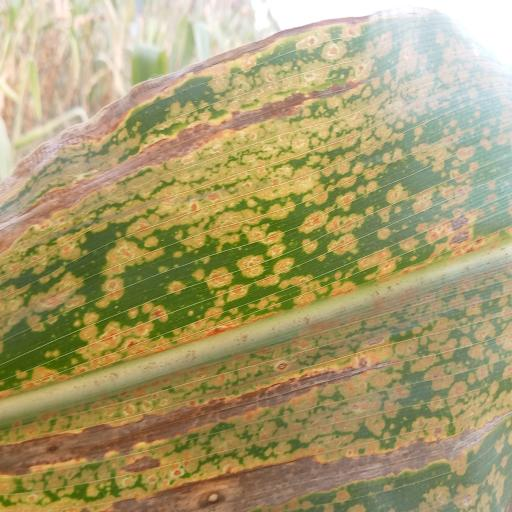Corn_Yellow_Spots: (2, 2, 512, 511)
